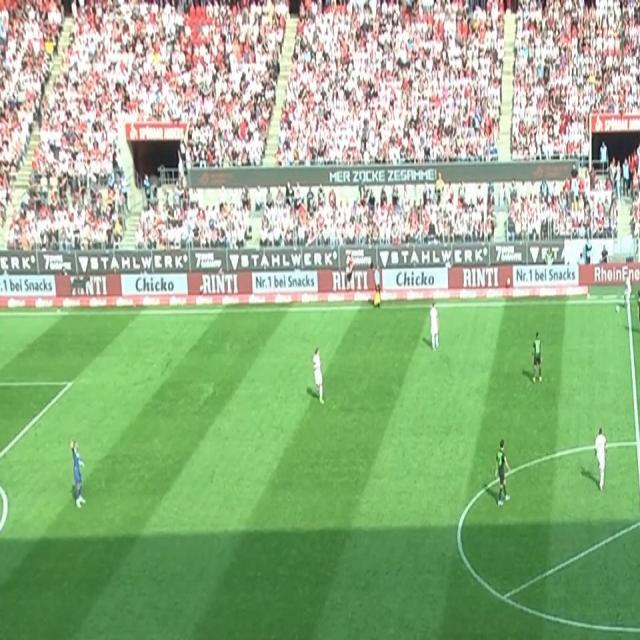ball: (615, 303, 621, 314)
